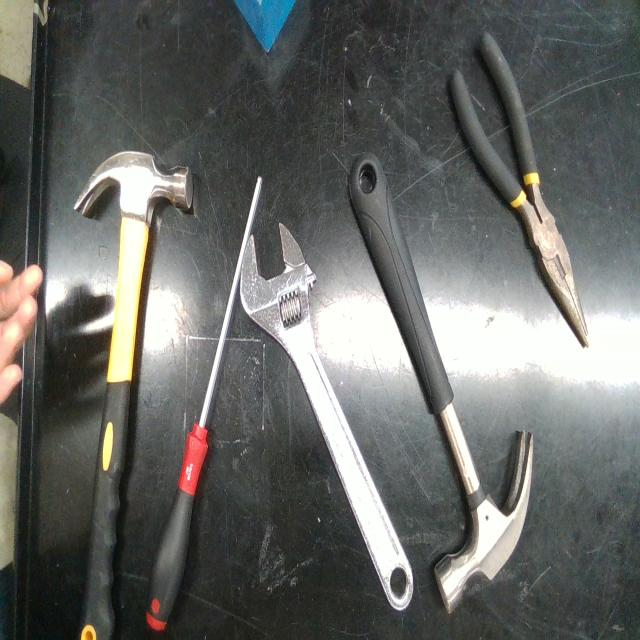Screwdriver: (146, 176, 262, 631)
